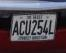2: (31, 20, 37, 36)
4: (43, 19, 48, 35)
5: (37, 19, 43, 36)
A: (12, 20, 19, 36)
C: (19, 20, 25, 35)
L: (48, 19, 54, 35)
U: (25, 19, 31, 36)
